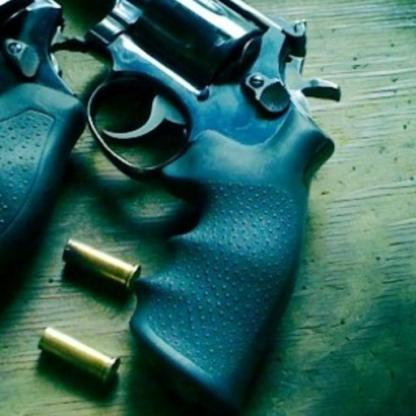gun: (0, 0, 346, 404), (0, 0, 99, 271)
